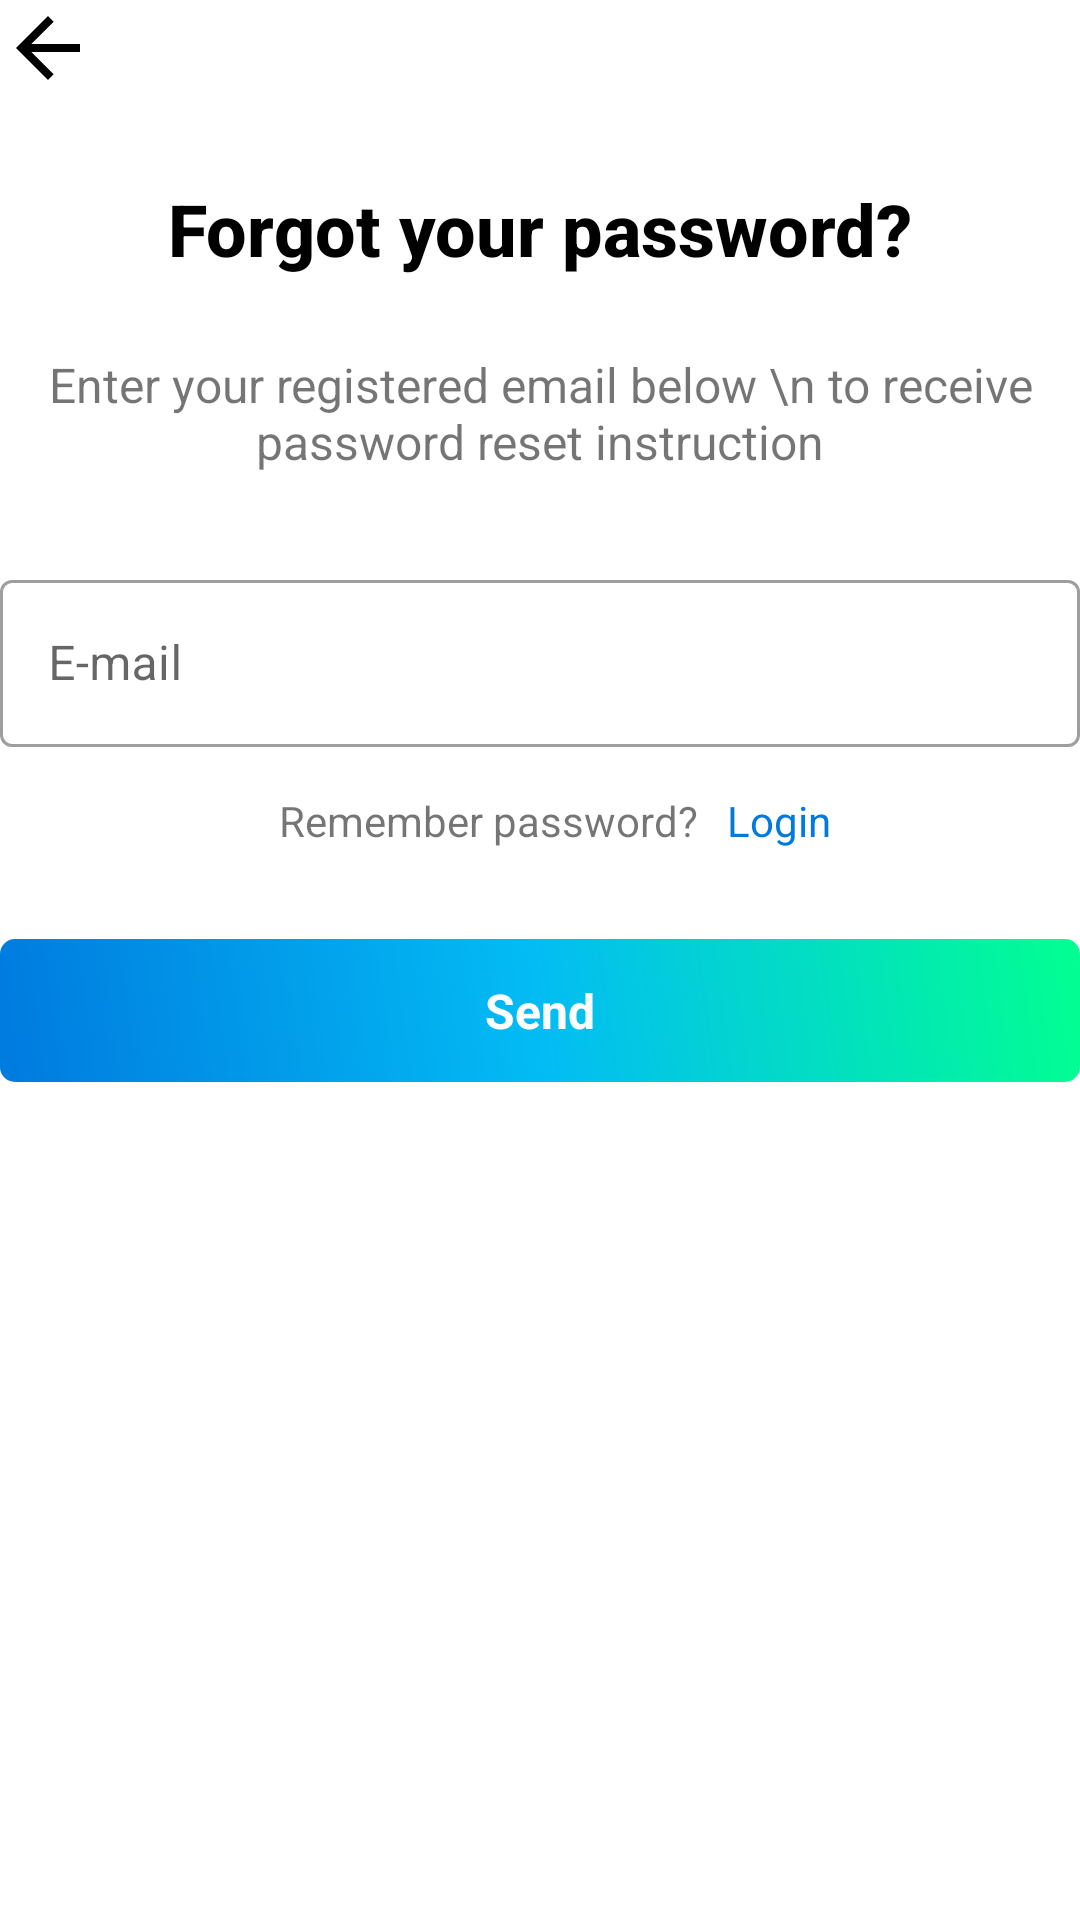

Screen size 1080x1920. Icon name, then its center in pixels as (x,y):
back arrow: (48,48)
